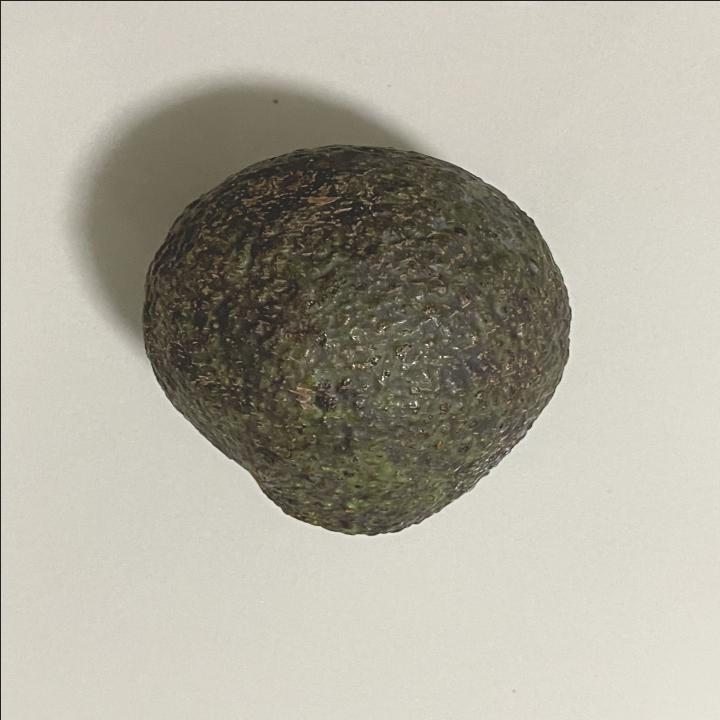Level1: (126, 122, 591, 546)
